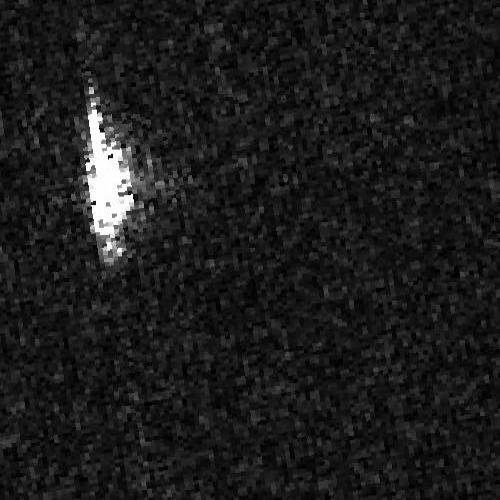ship: (84, 75, 134, 266)
